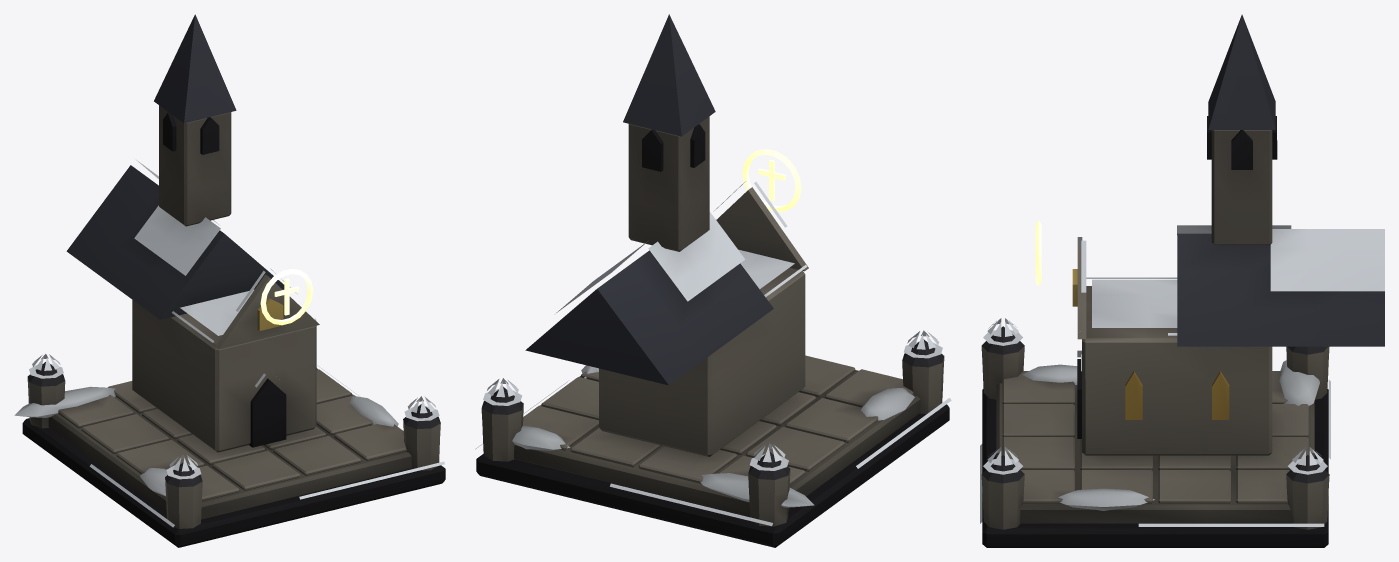
Rendered from alliance-5.glb.
3 views of the same model, side by side, from view 1: azimuth 30°, elevation 25°; view 2: azimuth 150°, elevation 25°; view 3: azimuth 270°, elevation 25° (orthographic). The views are drawn at different scales.
Parts seen in each view (by area): view 1: aubeval_5_architecture, Orbe_lueur; view 2: aubeval_5_architecture, Orbe_lueur; view 3: aubeval_5_architecture.
Boxes of the visible parts, x1,y1,x2,y2 form: aubeval_5_architecture: (14,14,445,547); Orbe_lueur: (260,268,313,325); aubeval_5_architecture: (475,14,951,547); Orbe_lueur: (742,149,801,211); aubeval_5_architecture: (980,14,1384,547).
Bounding box in the file's own units: 0.8652 × 1.18 × 0.9355.
